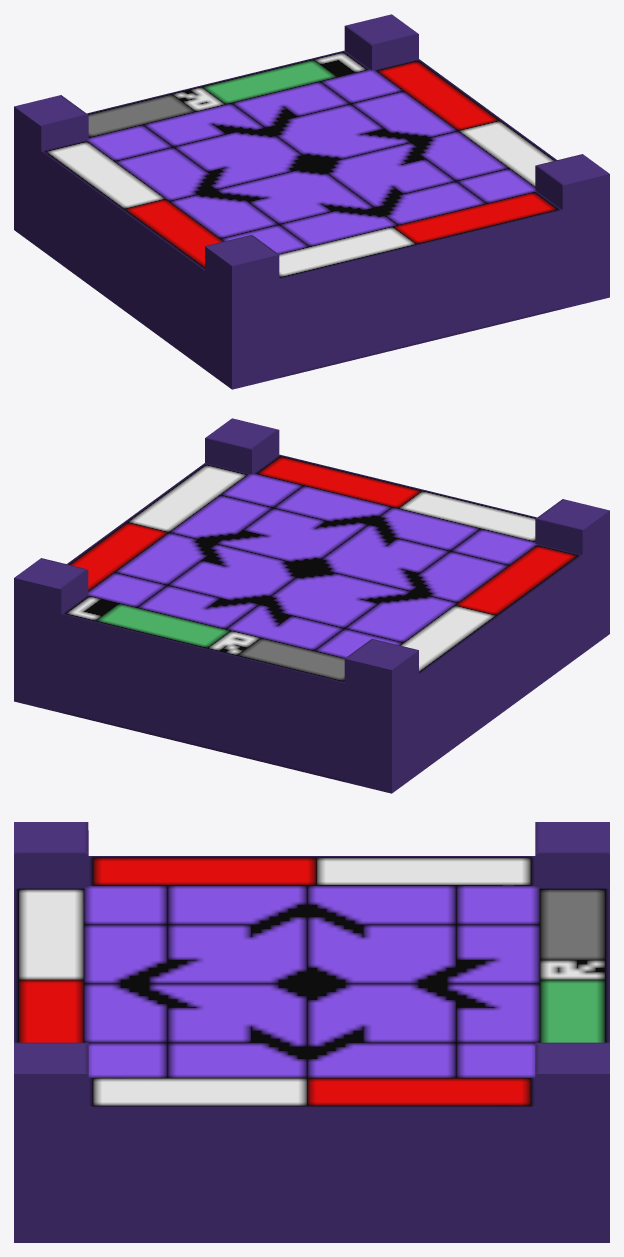
File: right_left_front.dae
3 renders of one model, top to bottom at view 1: azimuth 30°, elevation 25°; view 2: azimuth 150°, elevation 25°; view 3: azimuth 270°, elevation 25°, orthographic. The views are drawn at different scales.
Visible parts, largest first — view 1: RightLeftFront; view 2: RightLeftFront; view 3: RightLeftFront.
Part boxes in pixels (x1=…): RightLeftFront: x1=14, y1=14, x2=609, y2=389; RightLeftFront: x1=14, y1=418, x2=609, y2=793; RightLeftFront: x1=14, y1=822, x2=609, y2=1242.
Size of the model in its own units: 4 by 4 by 1.25.
Materials: 1 (1 with a texture image).
